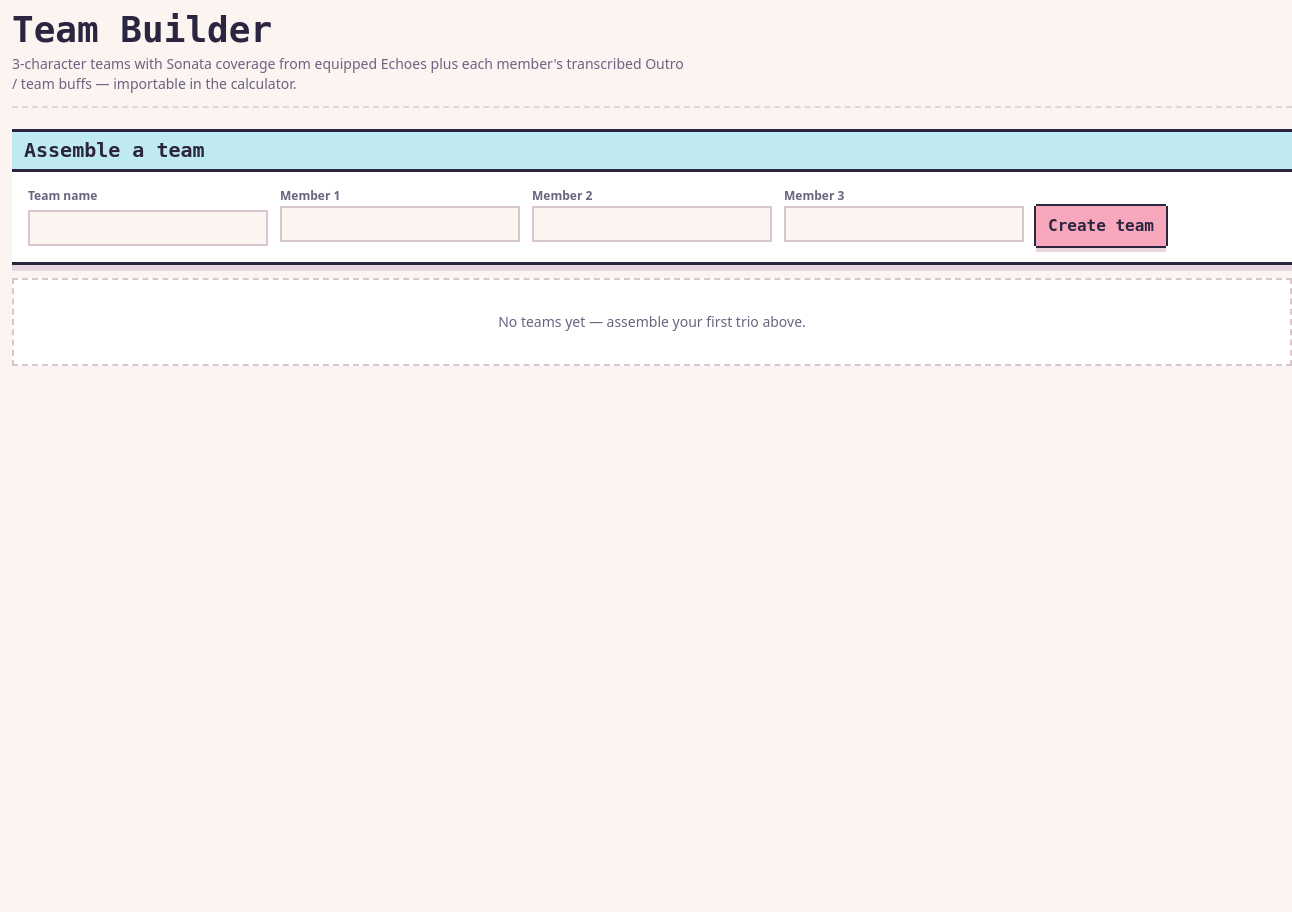
Test: TeamsPage › shows each member’s transcribed team buffs
In the field labelled "Team name": (148, 228) left=28, top=210, right=268, bottom=246, type "Buffs"
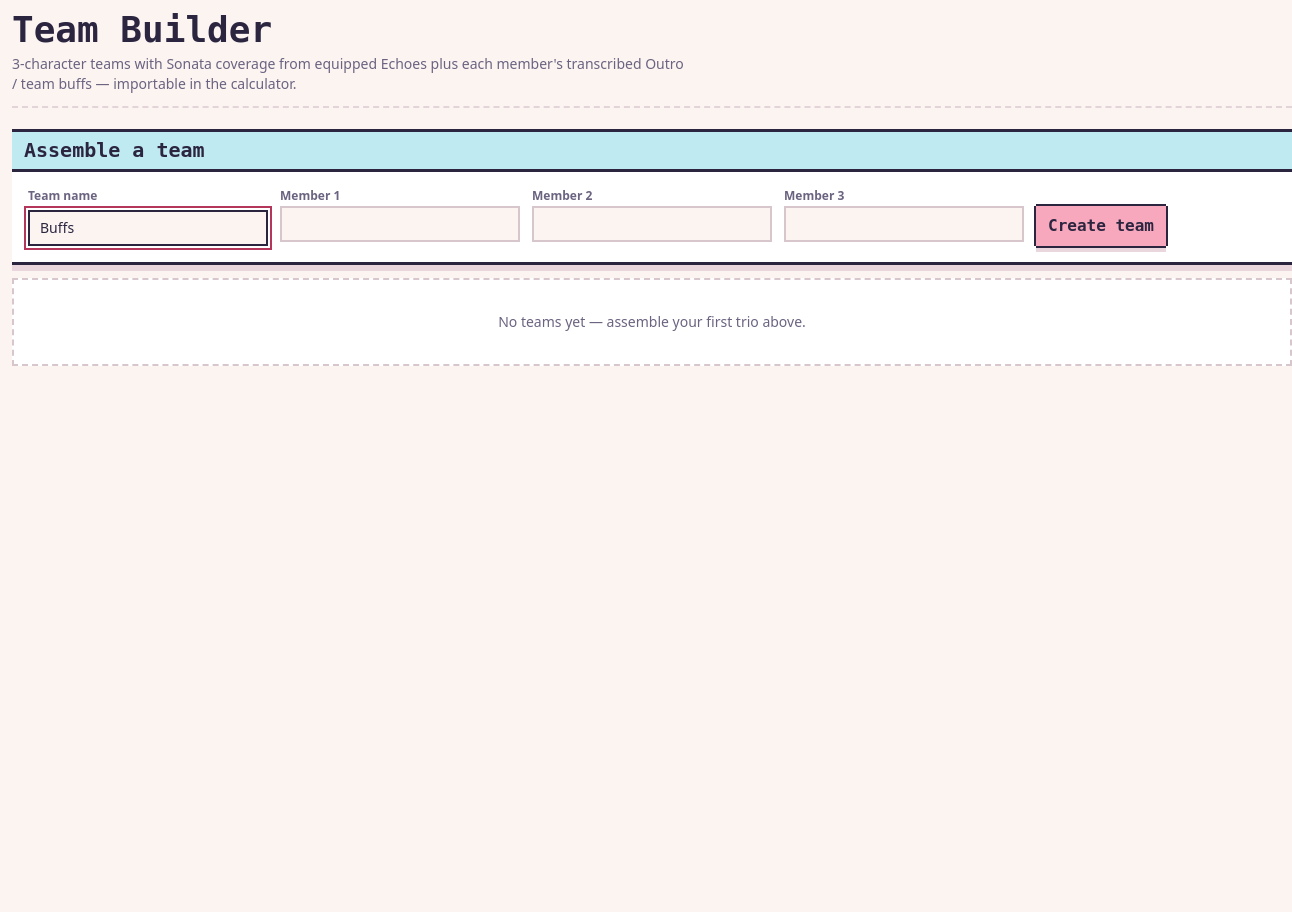
In the dropdown labelled "Member 1": (400, 224) left=280, top=206, right=520, bottom=242, type "lynae"
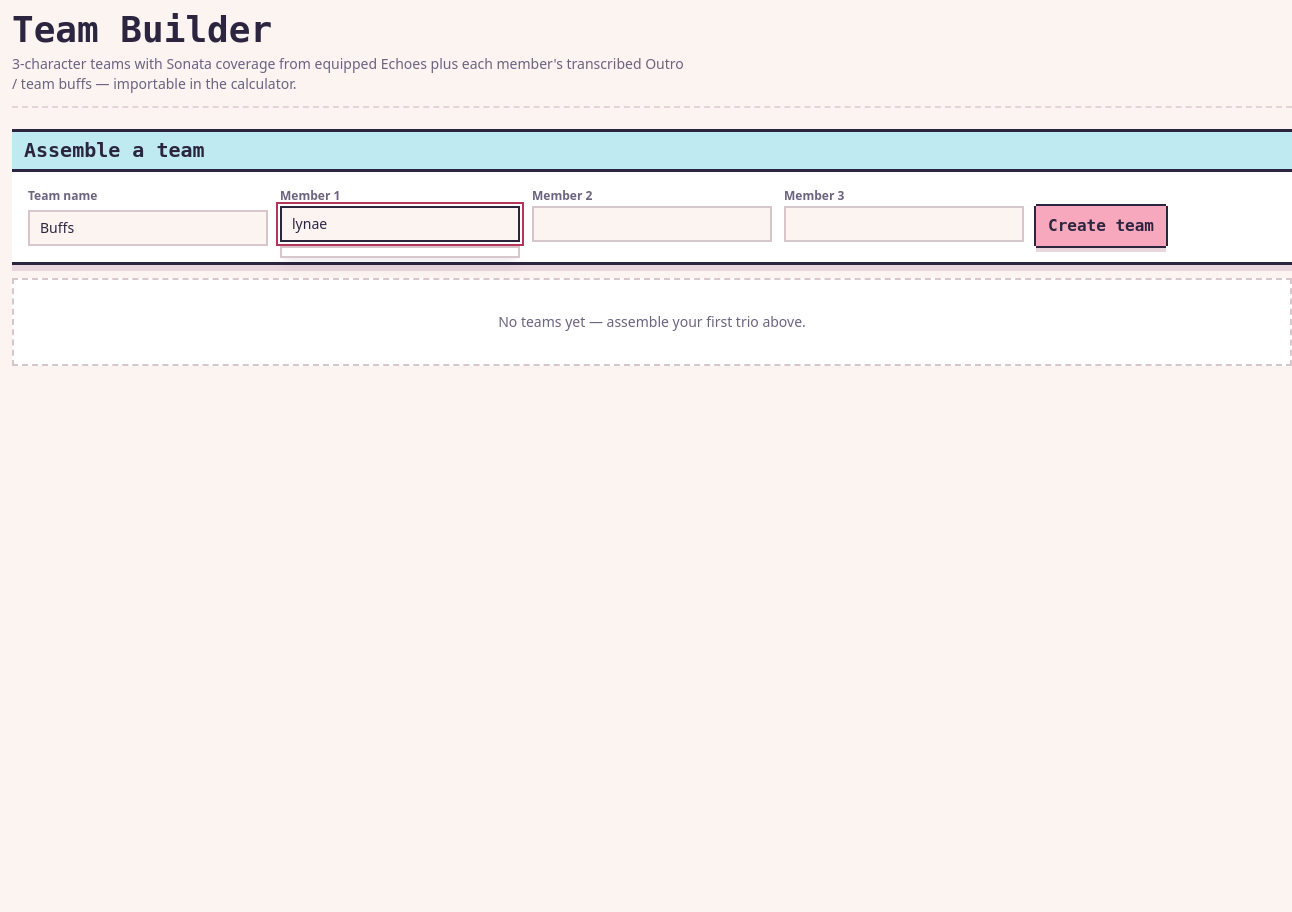
In the dropdown labelled "Member 2": (652, 224) left=532, top=206, right=772, bottom=242, type "verina"
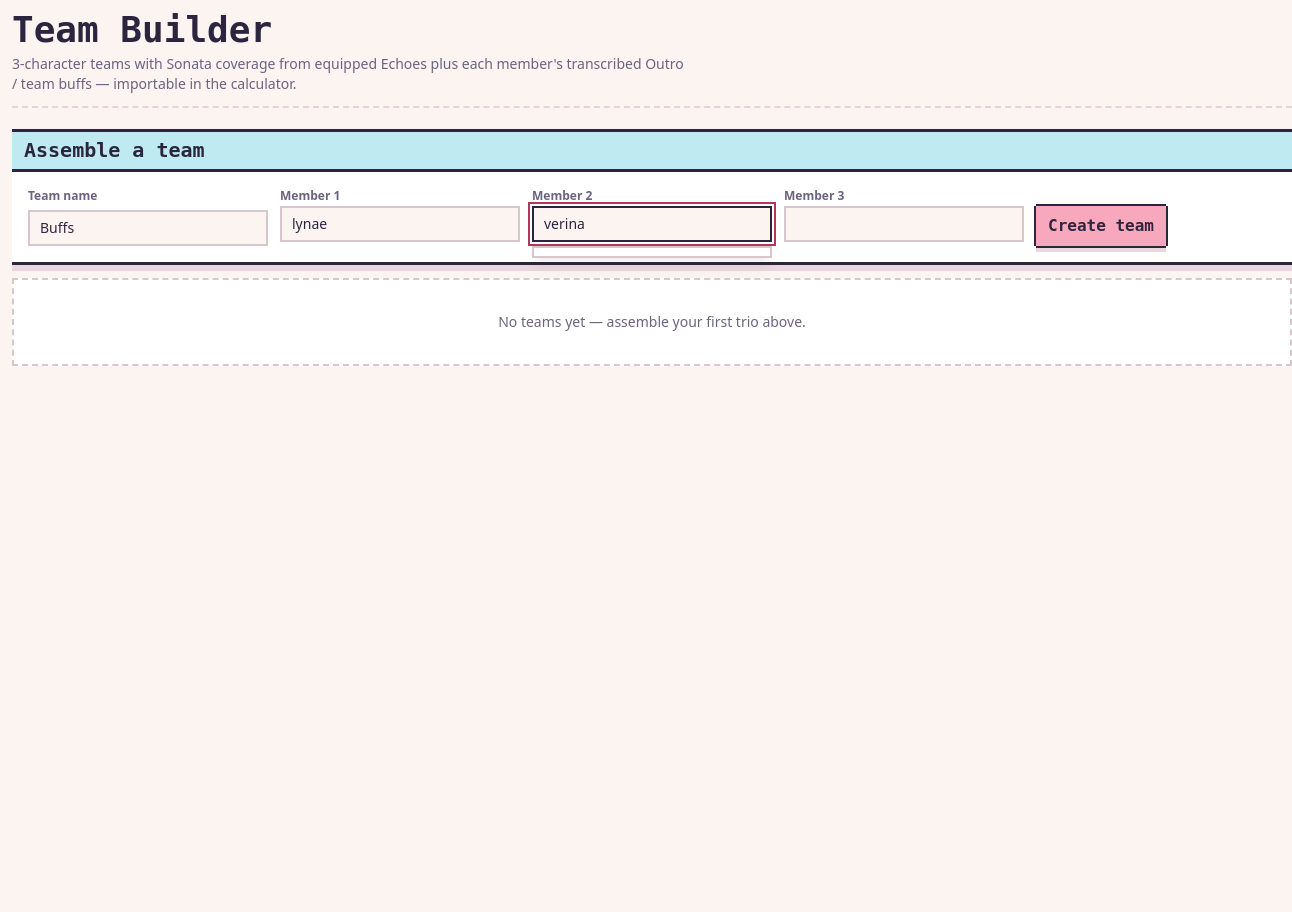
In the dropdown labelled "Member 3": (904, 224) left=784, top=206, right=1024, bottom=242, type "chixia"
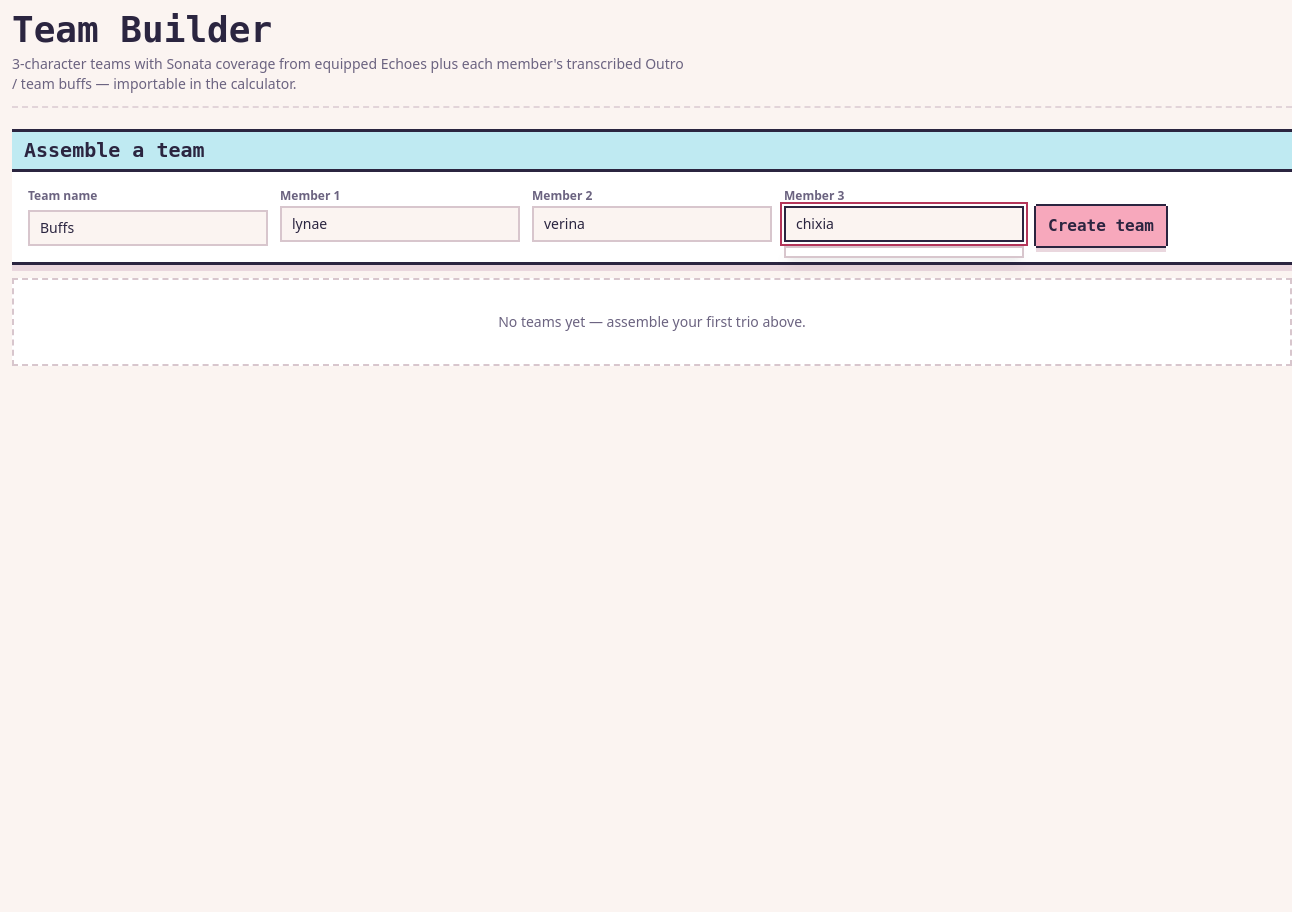
Click the button "Create team": click(1101, 226) left=1036, top=206, right=1166, bottom=246
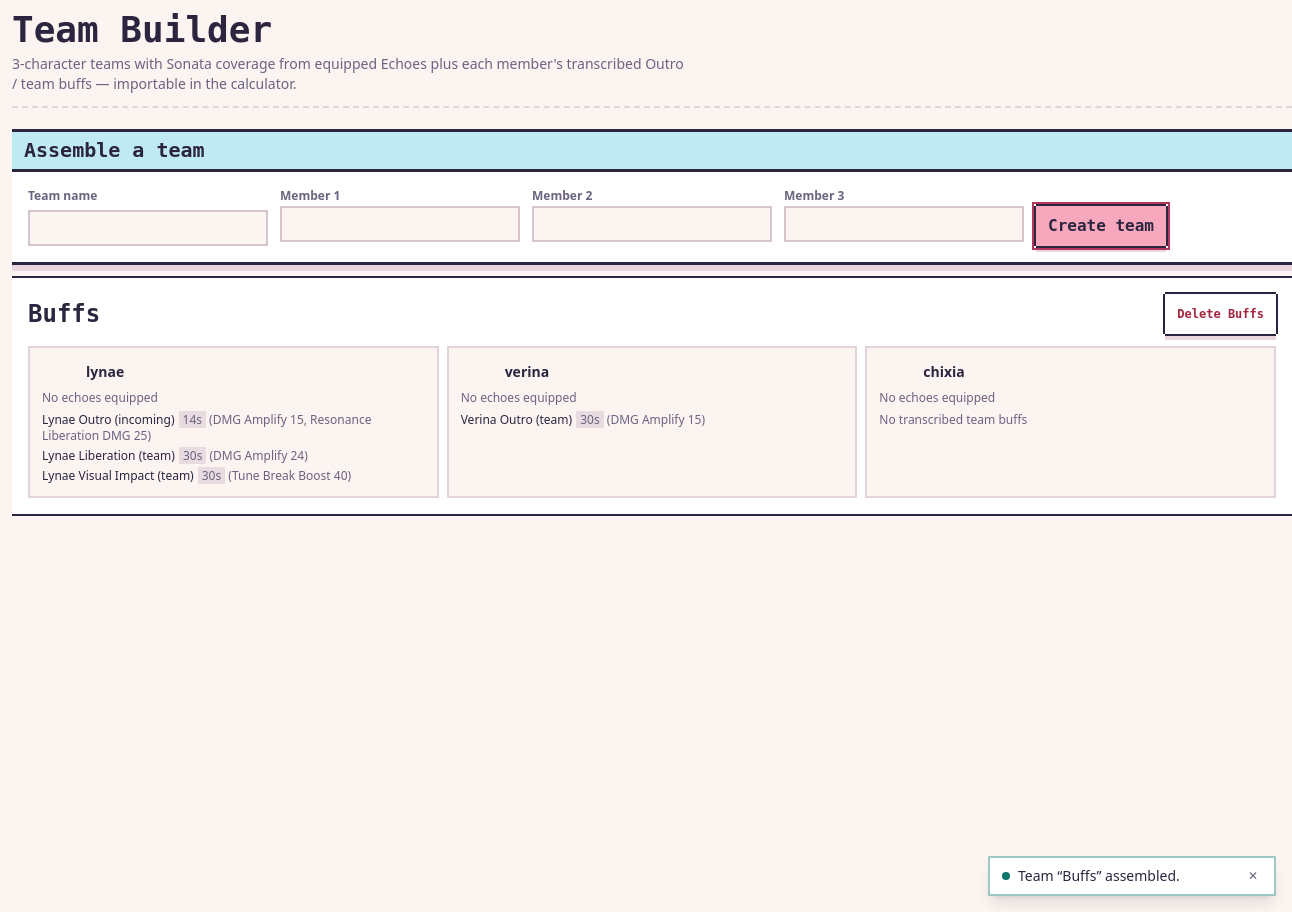
Check: the text "Lynae Outro (incoming)" is shown, box left=42, top=411, right=174, bottom=428
Check: the text "Lynae Liberation (team)" is shown, box left=42, top=447, right=175, bottom=464
Check: the text "Verina Outro (team)" is shown, box left=461, top=411, right=572, bottom=428
